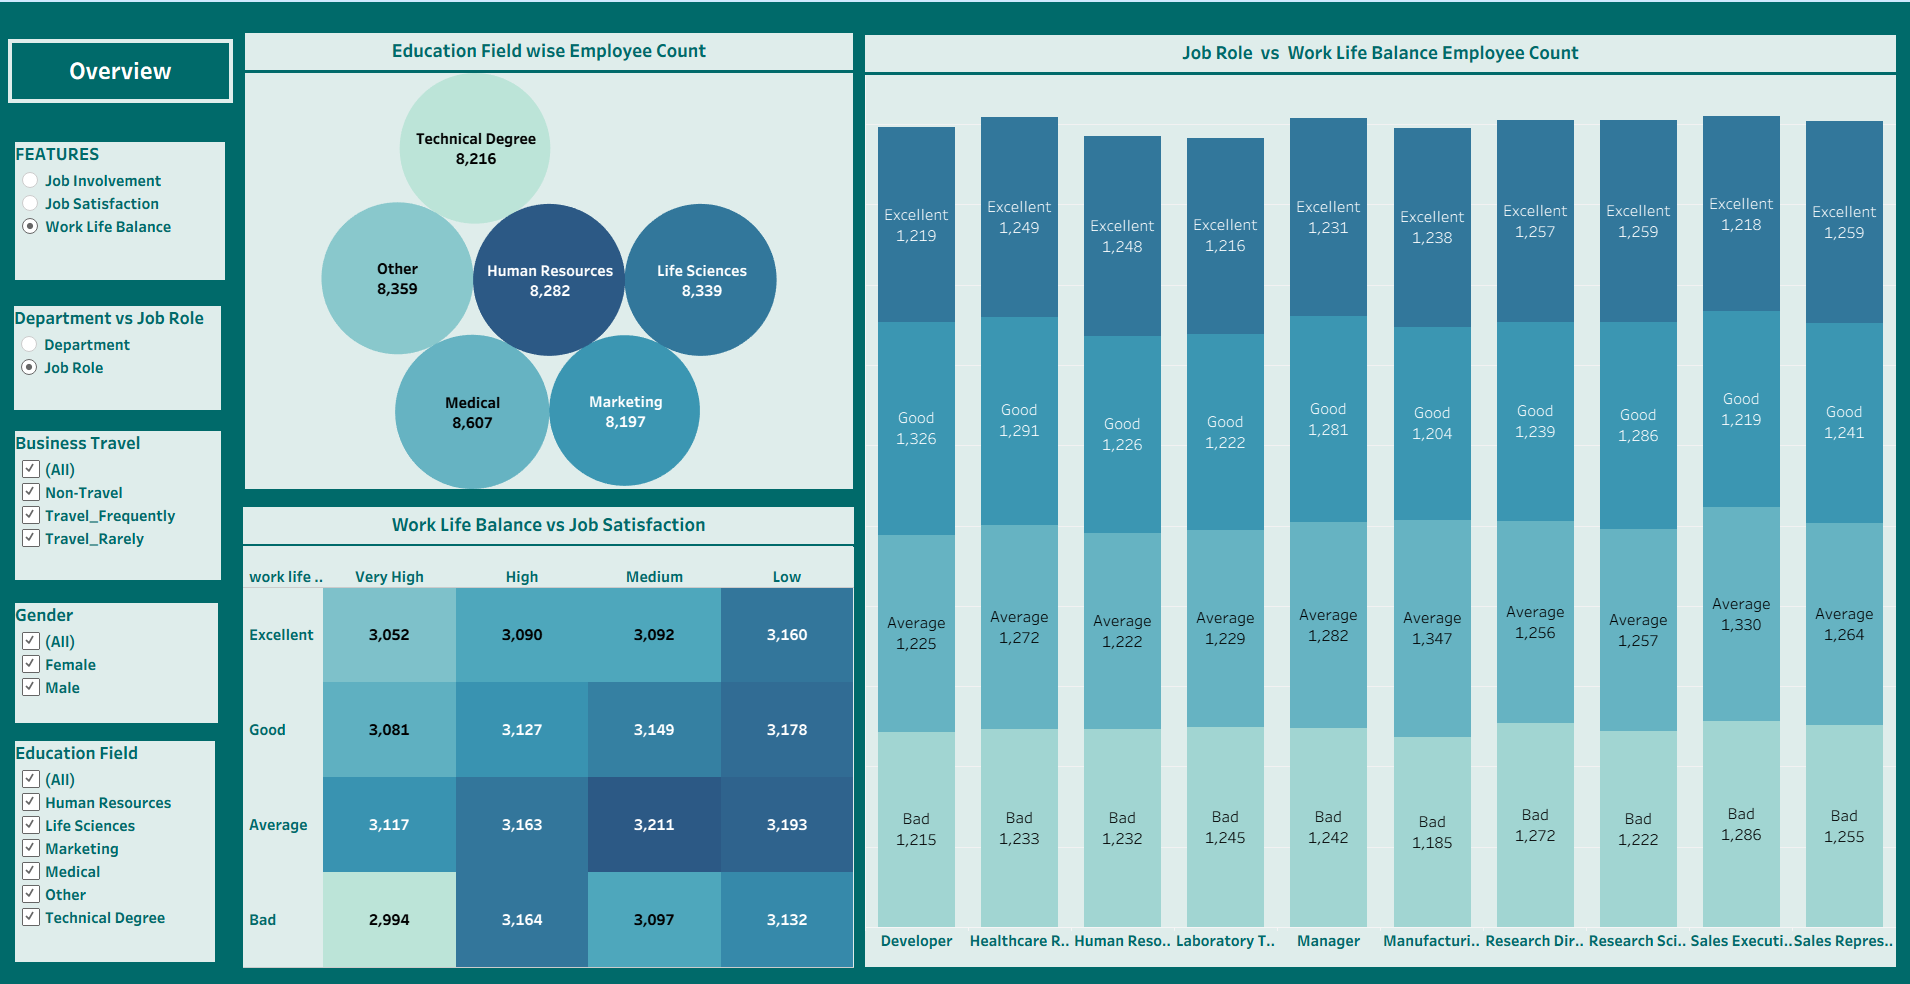

This screenshot's page, from the dashboard's own definition file:
{"tool":"tableau","page":{"name":"Wlb vs job satis","canvas":[1000,1000],"units":"permille","ordinal":3},"visuals":[{"type":"worksheet","title":"EDUCATION FIELD VS EMPLOYEE COUNT","mark":"Circle","box":[127.7,31.2,316.9,459.4]},{"type":"worksheet","title":"department vs job role vs features","mark":"Automatic","rows":["Employee ID"],"cols":["Calculation_906067989225013253"],"box":[450.7,33.7,537.1,938.8]},{"type":"dashboard-object","box":[4.3,37.5,117.4,64.9]},{"type":"parameter","param":"[Parameters].[Parameter 1]","box":[7.9,141.1,109.5,138.6]},{"type":"parameter","param":"[Parameters].[Parameter 2]","box":[7.3,305.9,107.7,104.9]},{"type":"filter","title":"worklife balance vs job satisfaction","param":"[federated.1677jod14x5h8m1evh0q40g2wzau].[none:BusinessTravel:nk]","box":[7.9,432,107.1,149.8]},{"type":"worksheet","title":"worklife balance vs job satisfaction","mark":"Square","rows":["Calculation_906067989205573632"],"cols":["Calculation_906067989206052865"],"box":[126.5,508.1,318.1,464.4]},{"type":"filter","title":"worklife balance vs job satisfaction","param":"[federated.1677jod14x5h8m1evh0q40g2wzau].[none:Gender:nk]","box":[7.9,605.5,105.8,121.1]},{"type":"filter","title":"worklife balance vs job satisfaction","param":"[federated.1677jod14x5h8m1evh0q40g2wzau].[none:EducationField:nk]","box":[7.9,744.1,104,222.2]}]}

Visuals, with their boxes on the dashboard's canvas, which has no fixed pixel size, in thousandths of its width and height (x1, y1, x2, y2). These are canvas units, not pixel positions in the 1910x984 screenshot, which may show the page scaled, cropped or inside an application window:
"EDUCATION FIELD VS EMPLOYEE COUNT" worksheet (Circle marks): left=128, top=31, right=445, bottom=491
"department vs job role vs features" worksheet: left=451, top=34, right=988, bottom=972
dashboard-object: left=4, top=38, right=122, bottom=102
parameter: left=8, top=141, right=117, bottom=280
parameter: left=7, top=306, right=115, bottom=411
"worklife balance vs job satisfaction" filter: left=8, top=432, right=115, bottom=582
"worklife balance vs job satisfaction" worksheet (Square marks): left=126, top=508, right=445, bottom=972
"worklife balance vs job satisfaction" filter: left=8, top=606, right=114, bottom=727
"worklife balance vs job satisfaction" filter: left=8, top=744, right=112, bottom=966
